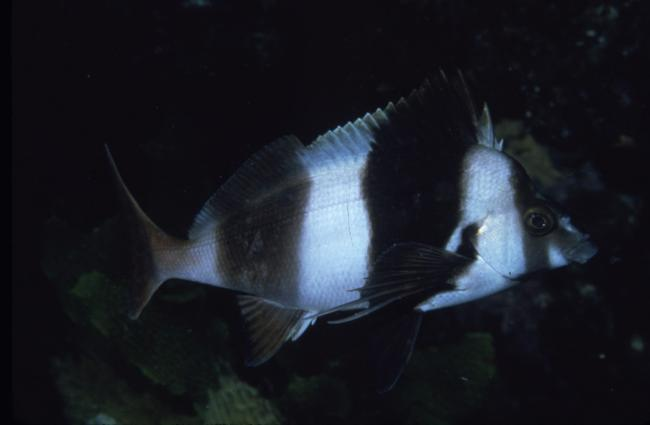fish: (103, 69, 601, 369)
